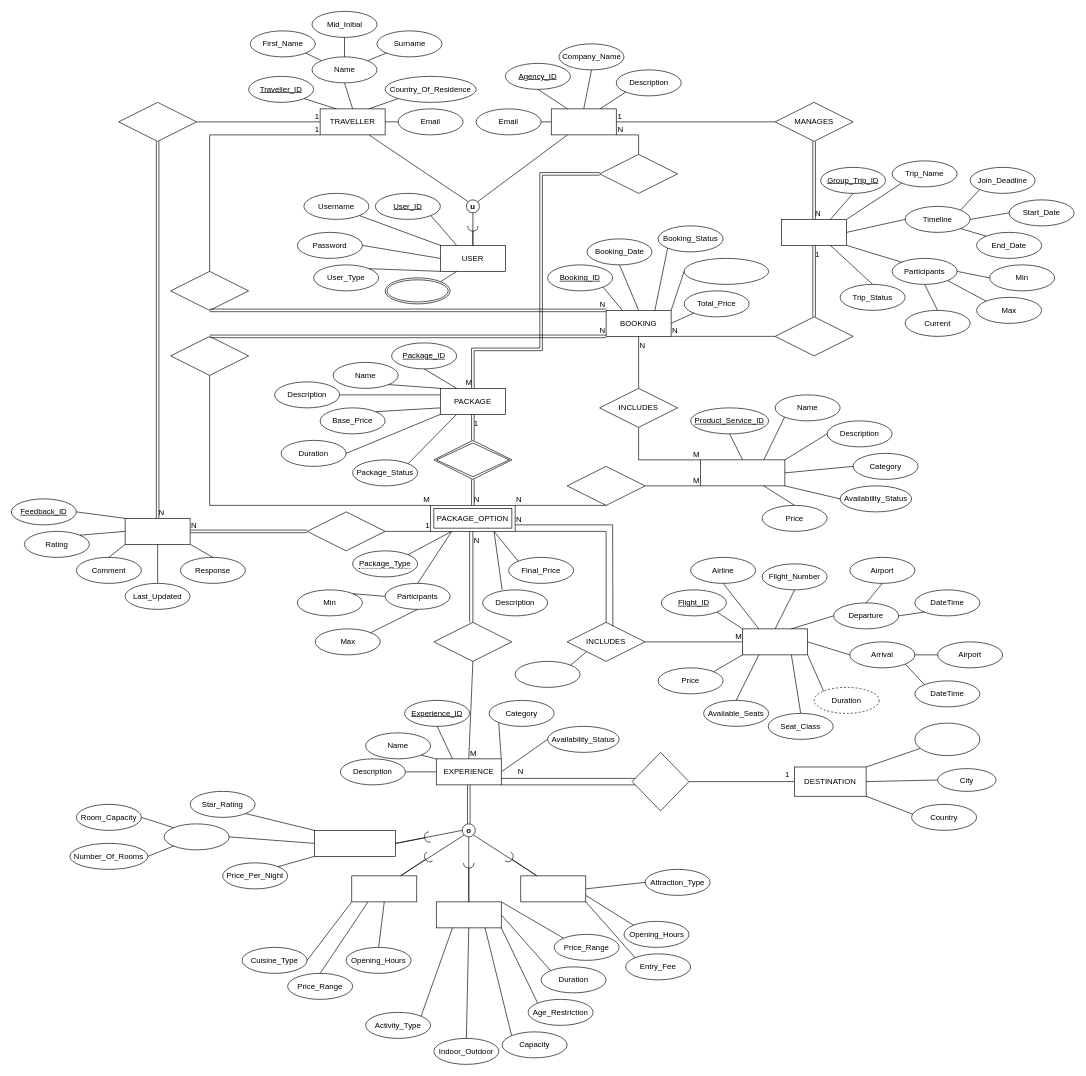
Image size: 1086x1076. Some labels were removed from this diagram. Here are the shapes that lost their labels. From the top down, the centre of each, then its label:
At (157,121): "GIVES".
At (583,121): "AGENCY".
At (638,173): "DESIGNS".
At (814,232): "GROUP_TRIP".
At (209,290): "MAKES".
At (417,290): "Contact_Info".
At (726,271): "Number_Of_People".
At (209,355): "OF".
At (813,336): "INVOLVING".
At (472,459): "HAS".
At (742,472): "PRODUCT_SERVICE".
At (605,485): "ADDS_ON".
At (157,531): "FEEDBACK".
At (345,531): "ON".
At (472,641): "PROVIDES".
At (775,641): "FLIGHT".
At (547,674): "Seats_Allocated".
At (947,739): "Destination_ID".
At (660,781): "IN".
At (196,836): "Room_Details".
At (355,843): "ACCOMMODATION".
At (384,888): "RESTAURANT".
At (553,888): "ATTRACTION".
At (468,914): "ACTIVITY".
